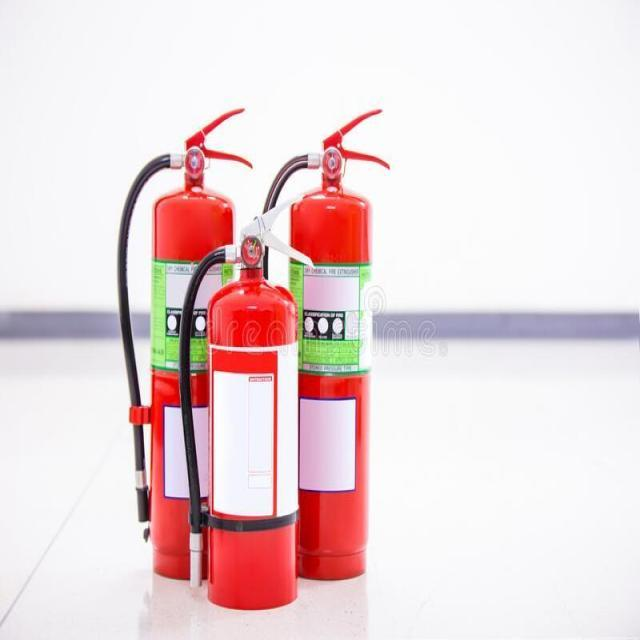fire_extinguisher: (252, 102, 394, 586), (112, 103, 254, 584), (174, 191, 316, 615)
